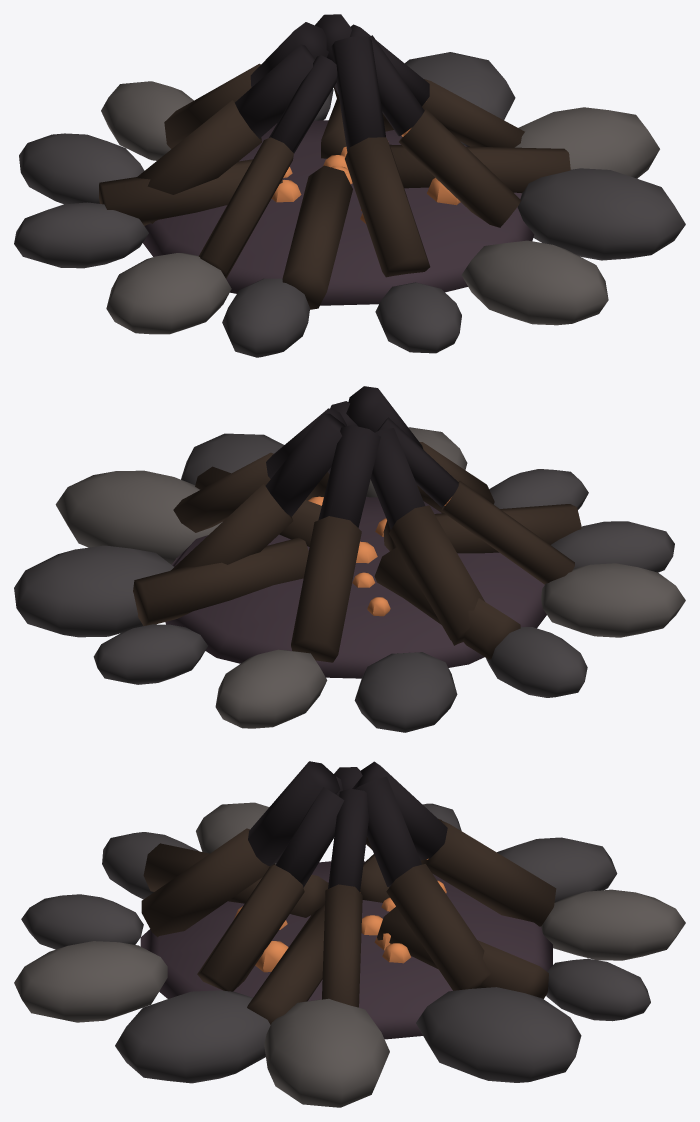
The model's file is calanmai_campfire.glb.
The picture shows the model from 3 angles, top to bottom: view 1: azimuth 30°, elevation 25°; view 2: azimuth 150°, elevation 25°; view 3: azimuth 270°, elevation 25°; orthographic projection.
Parts seen in each view (by area): view 1: calanmai_campfire; view 2: calanmai_campfire; view 3: calanmai_campfire.
Boxes of the visible parts, left/top/right/bottom form: calanmai_campfire: left=14, top=14, right=685, bottom=357; calanmai_campfire: left=14, top=386, right=685, bottom=732; calanmai_campfire: left=14, top=761, right=685, bottom=1107.
Size of what is drawn, in the model's own units: 1.05 by 0.38 by 1.05.
